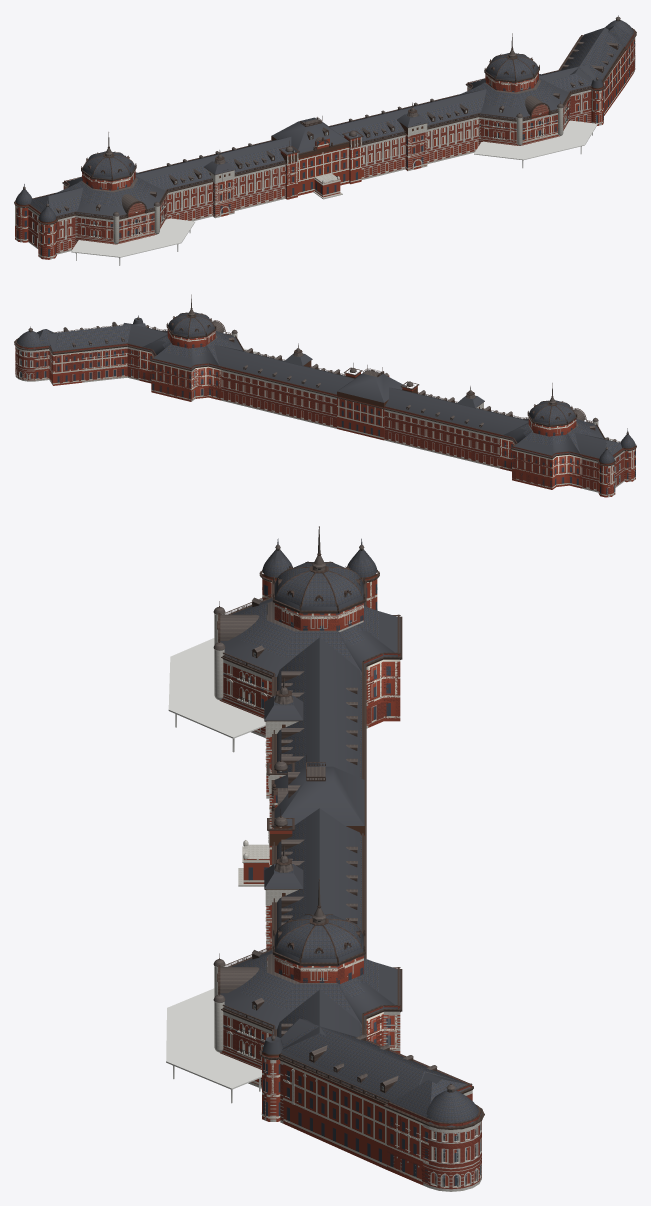
Rendered from tokyo_station.glb.
3 views of the same model, one above another, from view 1: azimuth 30°, elevation 25°; view 2: azimuth 150°, elevation 25°; view 3: azimuth 270°, elevation 25° (orthographic). The views are drawn at different scales.
Visible parts, largest first — view 1: TokyoStation_Near, TokyoStation_Far; view 2: TokyoStation_Far, TokyoStation_Near; view 3: TokyoStation_Near, TokyoStation_Far.
Part boxes in pixels (x1=…): TokyoStation_Near: x1=14, y1=16, x2=636, y2=265; TokyoStation_Far: x1=15, y1=15, x2=634, y2=259; TokyoStation_Far: x1=16, y1=295, x2=635, y2=497; TokyoStation_Near: x1=14, y1=308, x2=636, y2=497; TokyoStation_Near: x1=166, y1=526, x2=484, y2=1191; TokyoStation_Far: x1=219, y1=526, x2=481, y2=1187.
Bounding box in the file's own units: 316 × 46.11 × 75.78.
Materials: 15 (11 with a texture image).
